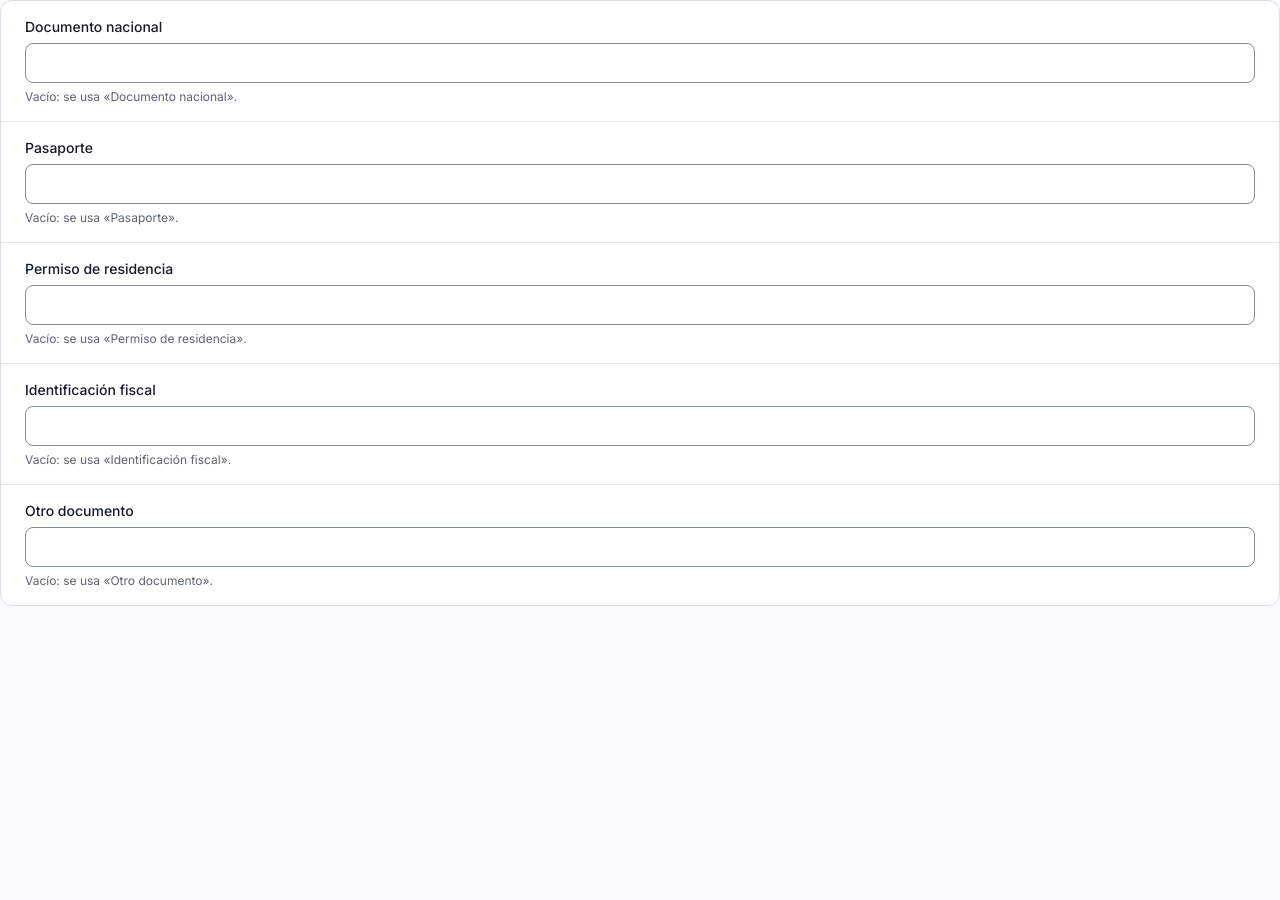
Test: DocumentTypeNamesSettingsSection (DX-327) › shows the ambiguity error from the API next to the form
Type "Doc" into the field labelled "Pasaporte" at coordinates (640, 184), box 25,164 -> 1255,204
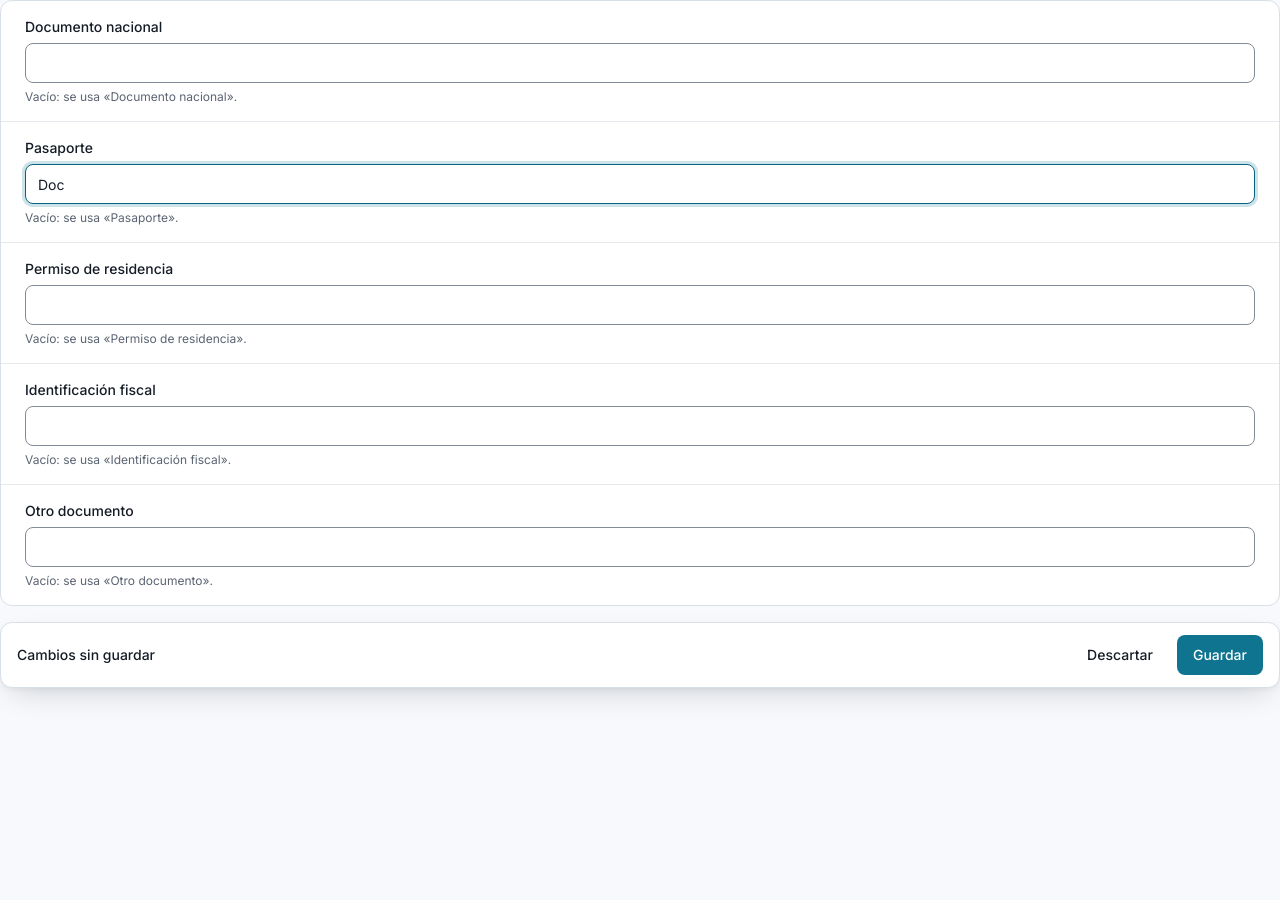
Click the button "Guardar" at coordinates (1220, 655), box 1177,635 -> 1263,675
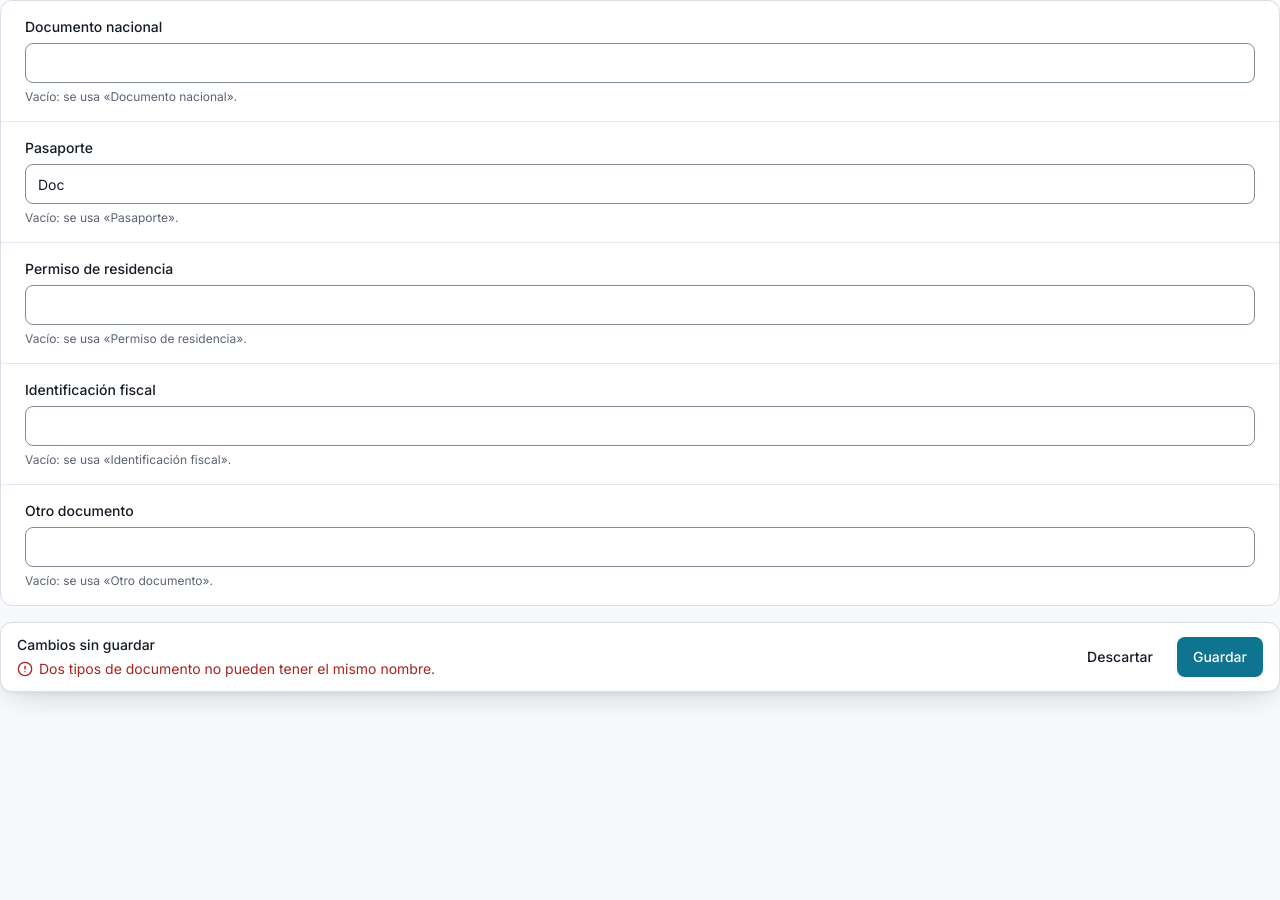
expect the button "Guardar" is enabled: met, box 1177,637 -> 1263,677
expect the text "Dos tipos de documento no pueden tener el mismo nombre." is shown: met, box 39,659 -> 435,679
